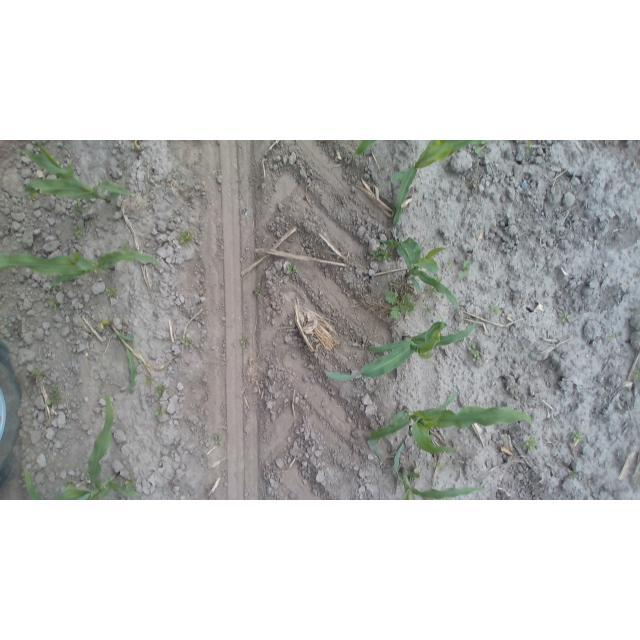Maize: (368, 388, 537, 474), (23, 391, 150, 499), (323, 312, 482, 384), (388, 141, 483, 231), (375, 234, 466, 319), (17, 141, 135, 204), (1, 246, 164, 290), (392, 439, 489, 500), (103, 321, 142, 397), (353, 140, 378, 157)
Weeds: (385, 291, 415, 321), (369, 245, 395, 265), (46, 387, 62, 409), (456, 260, 472, 281), (469, 342, 484, 364), (178, 229, 195, 247), (523, 437, 538, 456), (556, 311, 572, 326), (473, 141, 488, 156), (211, 432, 225, 448), (70, 202, 86, 216), (178, 336, 195, 349), (488, 304, 503, 318), (285, 261, 299, 276), (154, 384, 167, 399), (30, 370, 47, 381), (124, 476, 137, 490), (571, 430, 585, 443), (106, 285, 119, 299), (142, 374, 155, 387), (47, 297, 61, 309), (74, 225, 87, 237), (154, 408, 166, 421), (239, 336, 250, 349), (26, 191, 39, 202), (607, 331, 619, 342), (251, 284, 261, 297), (433, 459, 444, 470), (443, 259, 454, 270), (120, 241, 132, 251), (425, 305, 435, 316), (426, 287, 439, 295), (569, 469, 579, 479), (632, 370, 638, 385), (66, 163, 74, 172), (89, 221, 96, 227)
